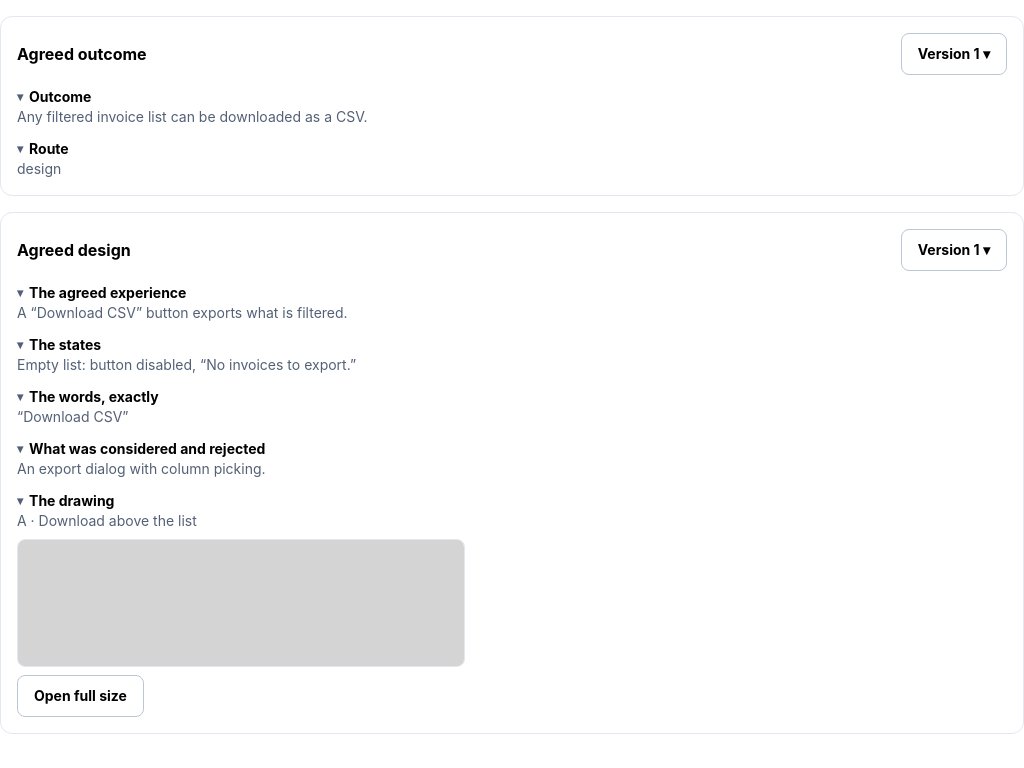
collapses and opens a heading
Step 1. Click the button "▾ The states" → (59,345), box [17, 335, 101, 355]
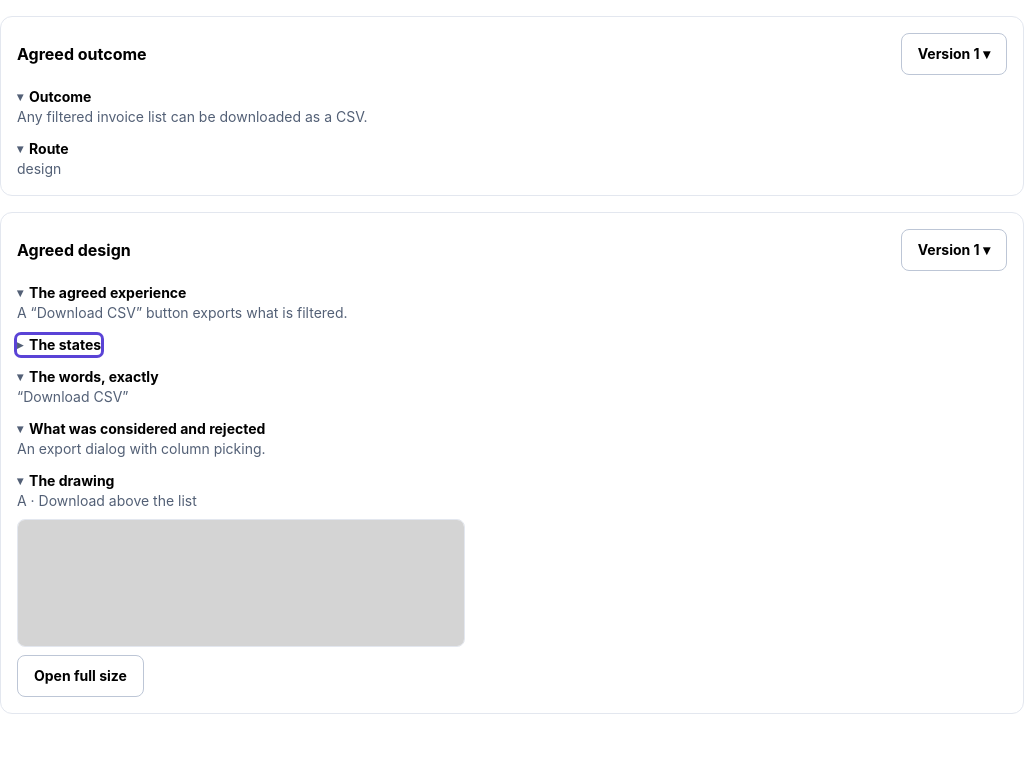
Check: the button "▸ The states" is collapsed
Step 2. Click the button "▸ The states" → (59,345), box [17, 335, 101, 355]
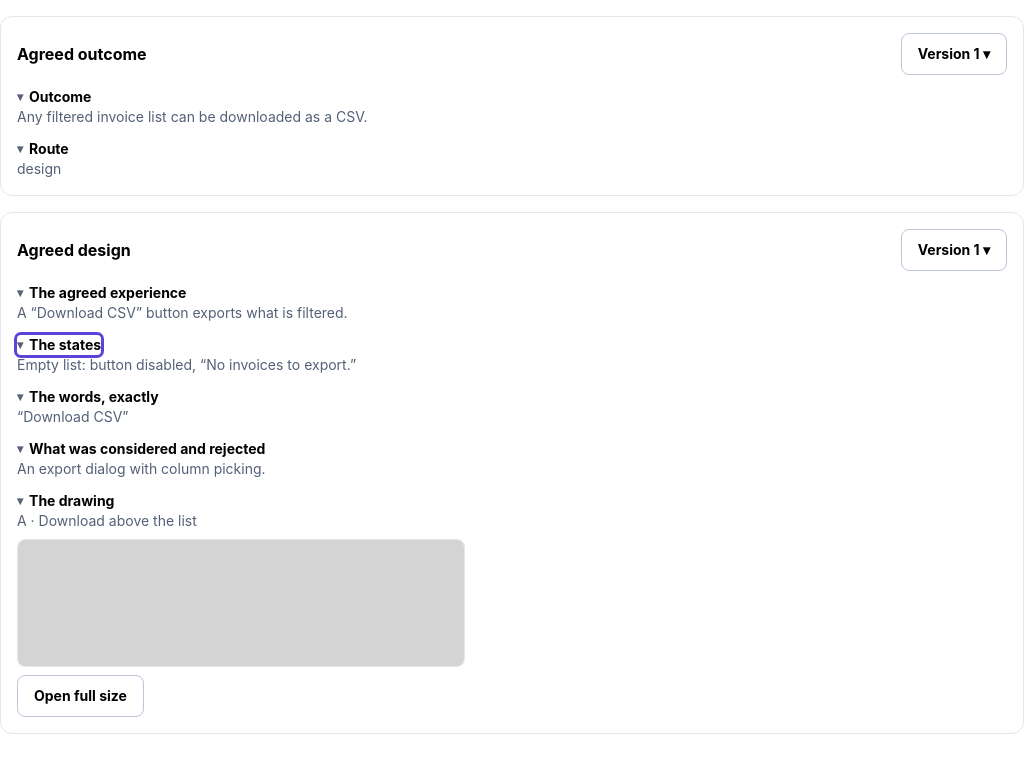
Check: the button "▾ The states" is expanded, box [17, 335, 101, 355]
